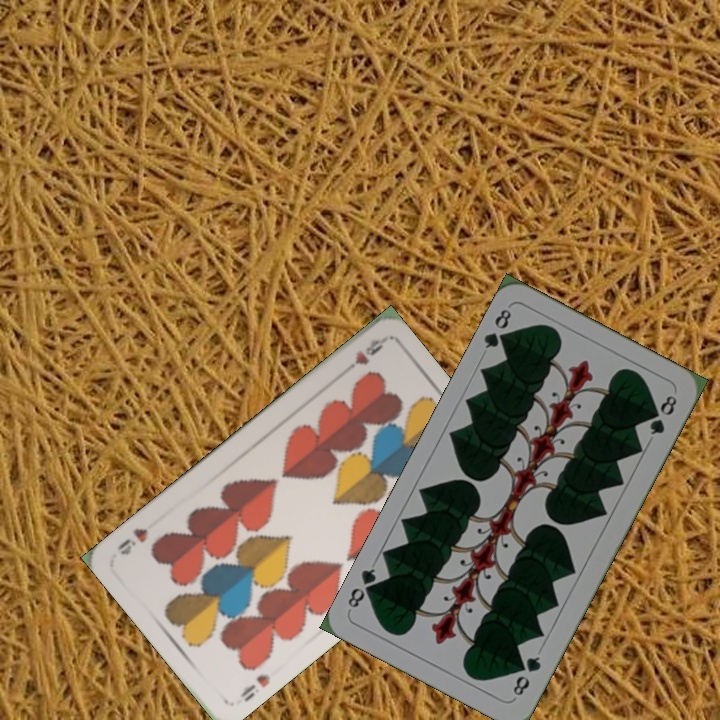G8: (508, 652, 544, 699), (479, 305, 514, 351)
H9: (337, 335, 387, 379), (236, 670, 273, 705)
